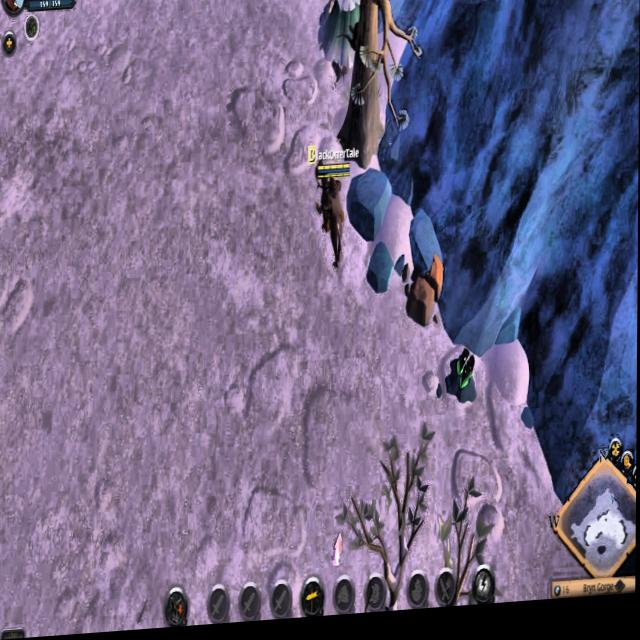limestone: (400, 248, 443, 335)
tinore: (446, 352, 482, 412)
